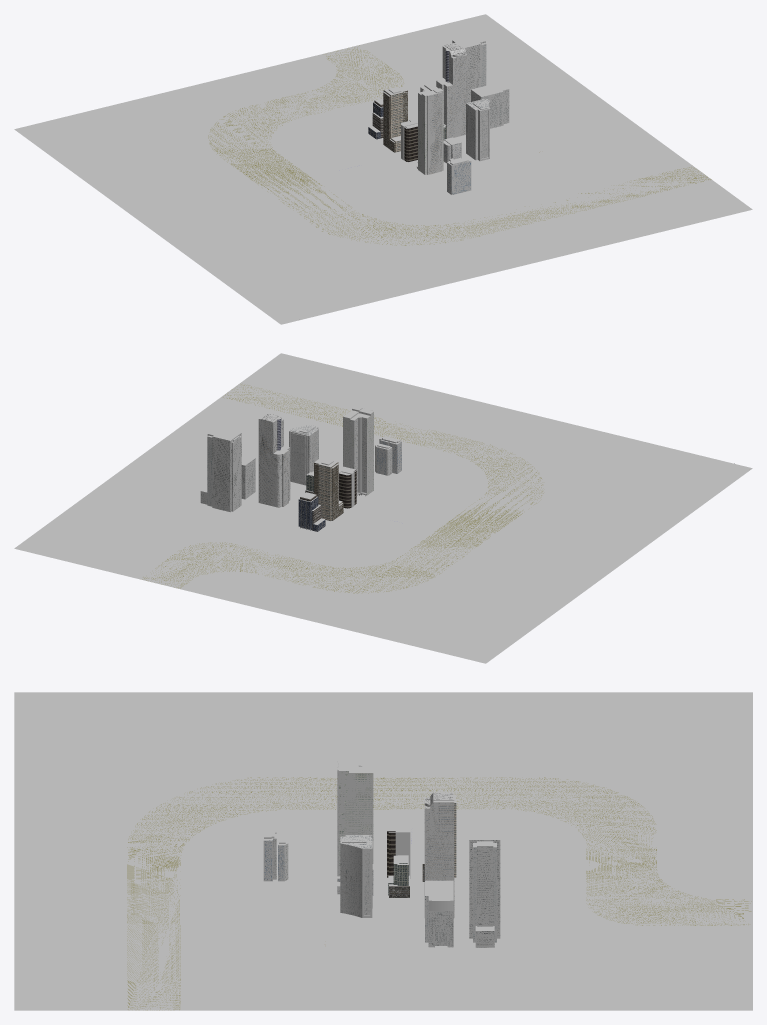
Rendered from urban_city.dae.
3 views of the same model, one above another, from view 1: azimuth 30°, elevation 25°; view 2: azimuth 150°, elevation 25°; view 3: azimuth 270°, elevation 25° (orthographic). The views are drawn at different scales.
Visible parts, largest first — view 1: Riverwell_City (×15), Riverwell_City_1, RIVERWELL_CITY_4; view 2: Riverwell_City (×16), Riverwell_City_1, RIVERWELL_CITY_4; view 3: Riverwell_City (×43), Riverwell_City_1.
Part boxes in pixels (x1,y1,x2,y2): Riverwell_City (×15): [14, 20, 752, 324]; Riverwell_City_1: [442, 46, 467, 138]; RIVERWELL_CITY_4: [383, 90, 403, 152]; Riverwell_City (×16): [23, 353, 752, 663]; Riverwell_City_1: [258, 417, 283, 507]; RIVERWELL_CITY_4: [318, 462, 342, 521]; Riverwell_City (×43): [14, 692, 752, 1010]; Riverwell_City_1: [424, 802, 454, 917].
Size of the model in its own units: 47269 by 46362 by 8193.
